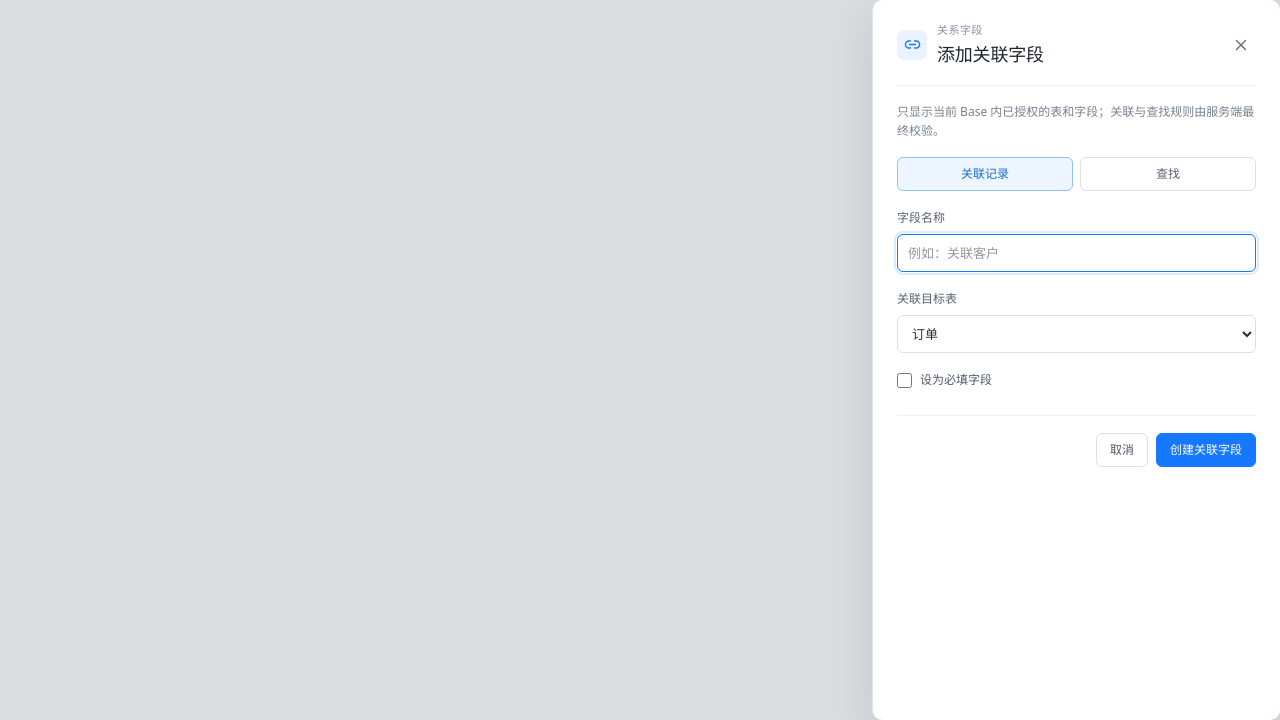
keeps a retry key only for the same network retry and locks after conflict
In the field labelled "字段名称": (1076, 253) [897,234,1256,272], type "客户"
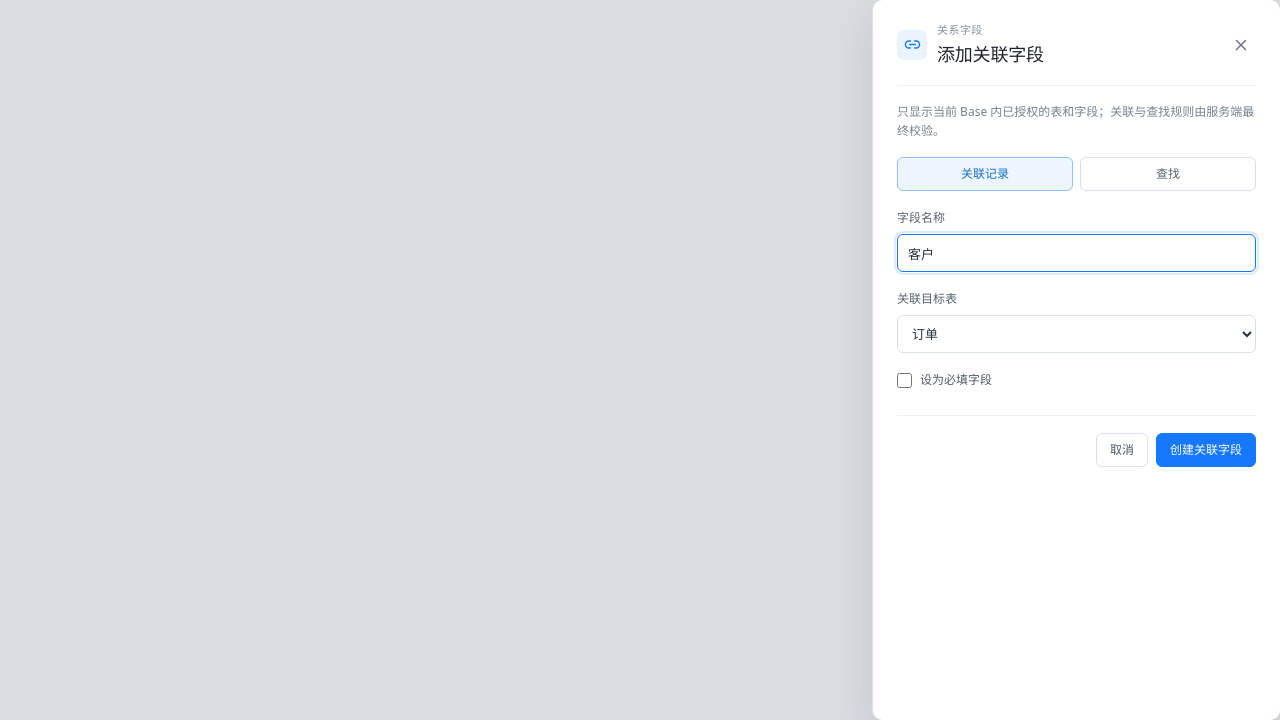
Select "客户" in the dropdown labelled "关联目标表": (1076, 334) [897,315,1256,353]
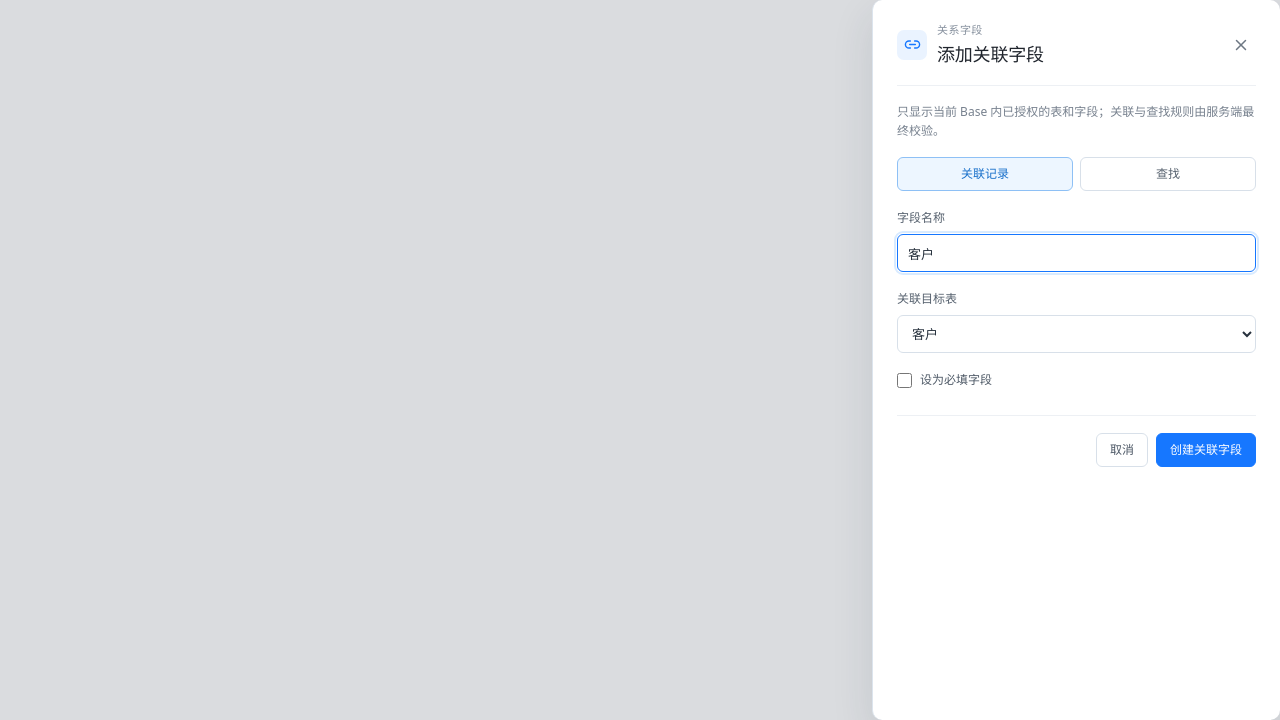
Click the button "创建关联字段": (1206, 450) [1156,433,1256,467]
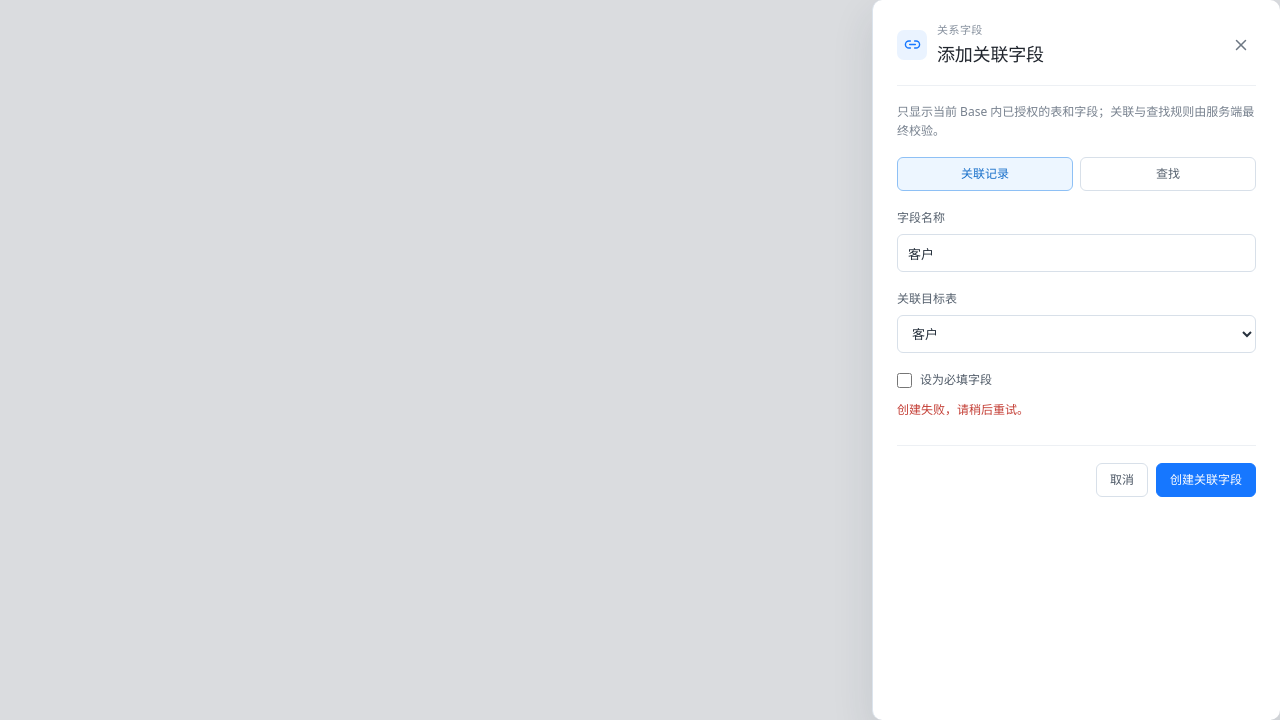
Result: the message reads "创建失败，请稍后重试。" at [897,401,1029,418]
Click the button "创建关联字段": (1206, 480) [1156,463,1256,497]
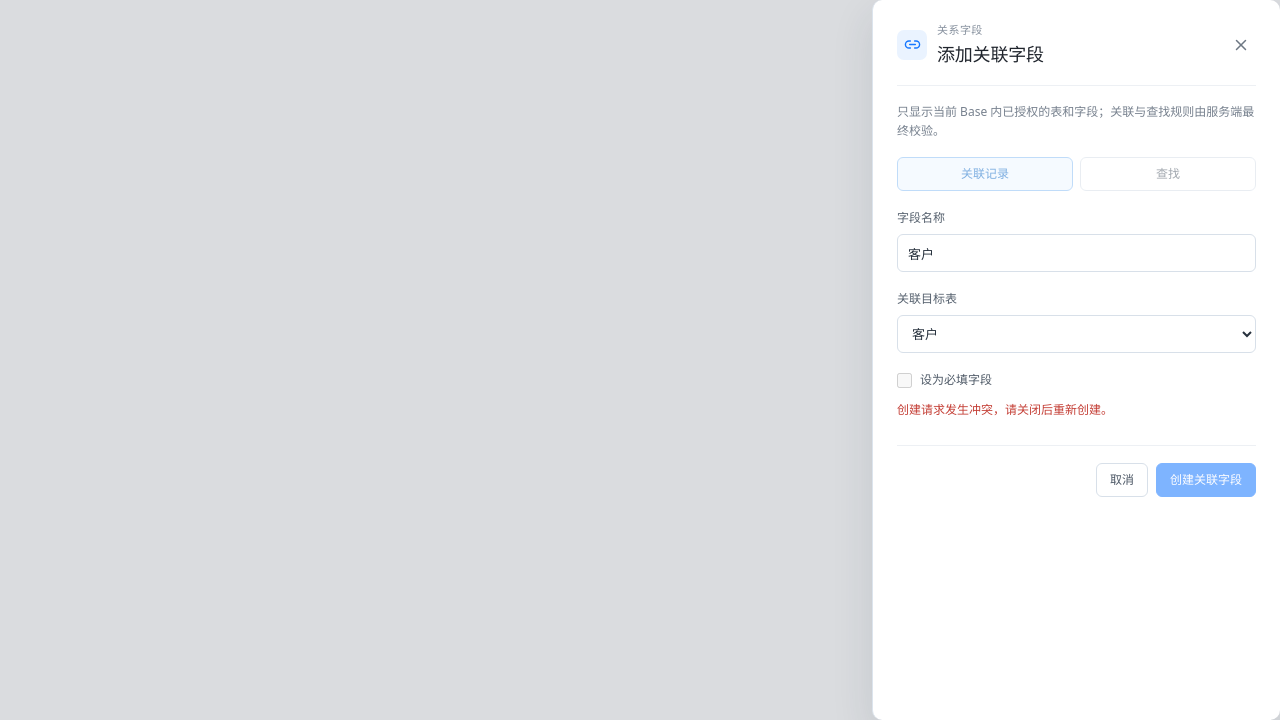
Expected: the field labelled "字段名称" is disabled, [897,234,1256,272]
Result: the message reads "创建请求发生冲突，请关闭后重新创建。" at [897,401,1113,418]
Result: the button "创建关联字段" is disabled at [1156,463,1256,497]
